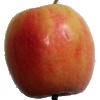apple: (4, 5, 96, 99)
